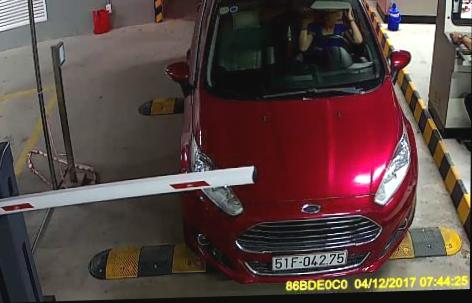License_Plate: (271, 249, 348, 270)
